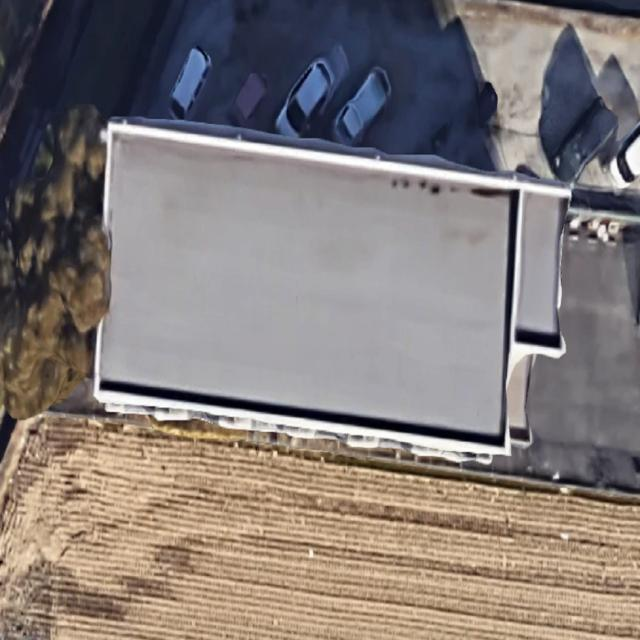Batiment: (94, 120, 570, 454)
